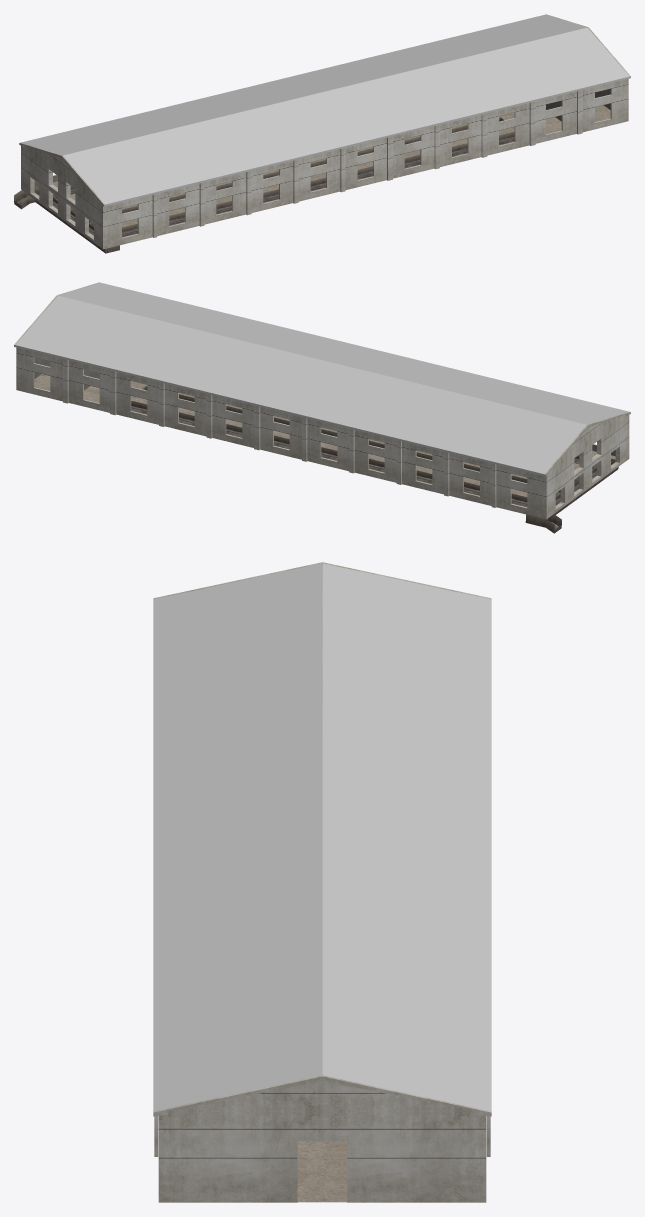
File: fangzi.FBX
3 views of the same model, one above another, from view 1: azimuth 30°, elevation 25°; view 2: azimuth 150°, elevation 25°; view 3: azimuth 270°, elevation 25° (orthographic). The views are drawn at different scales.
Parts seen in each view (by area): view 1: fangzi; view 2: fangzi; view 3: fangzi.
Part boxes in pixels (<box>): fangzi: <box>14,14,630,253</box>; fangzi: <box>14,282,630,533</box>; fangzi: <box>153,562,491,1202</box>.
Bounding box in the file's own units: 8439 × 1152 × 2316.
